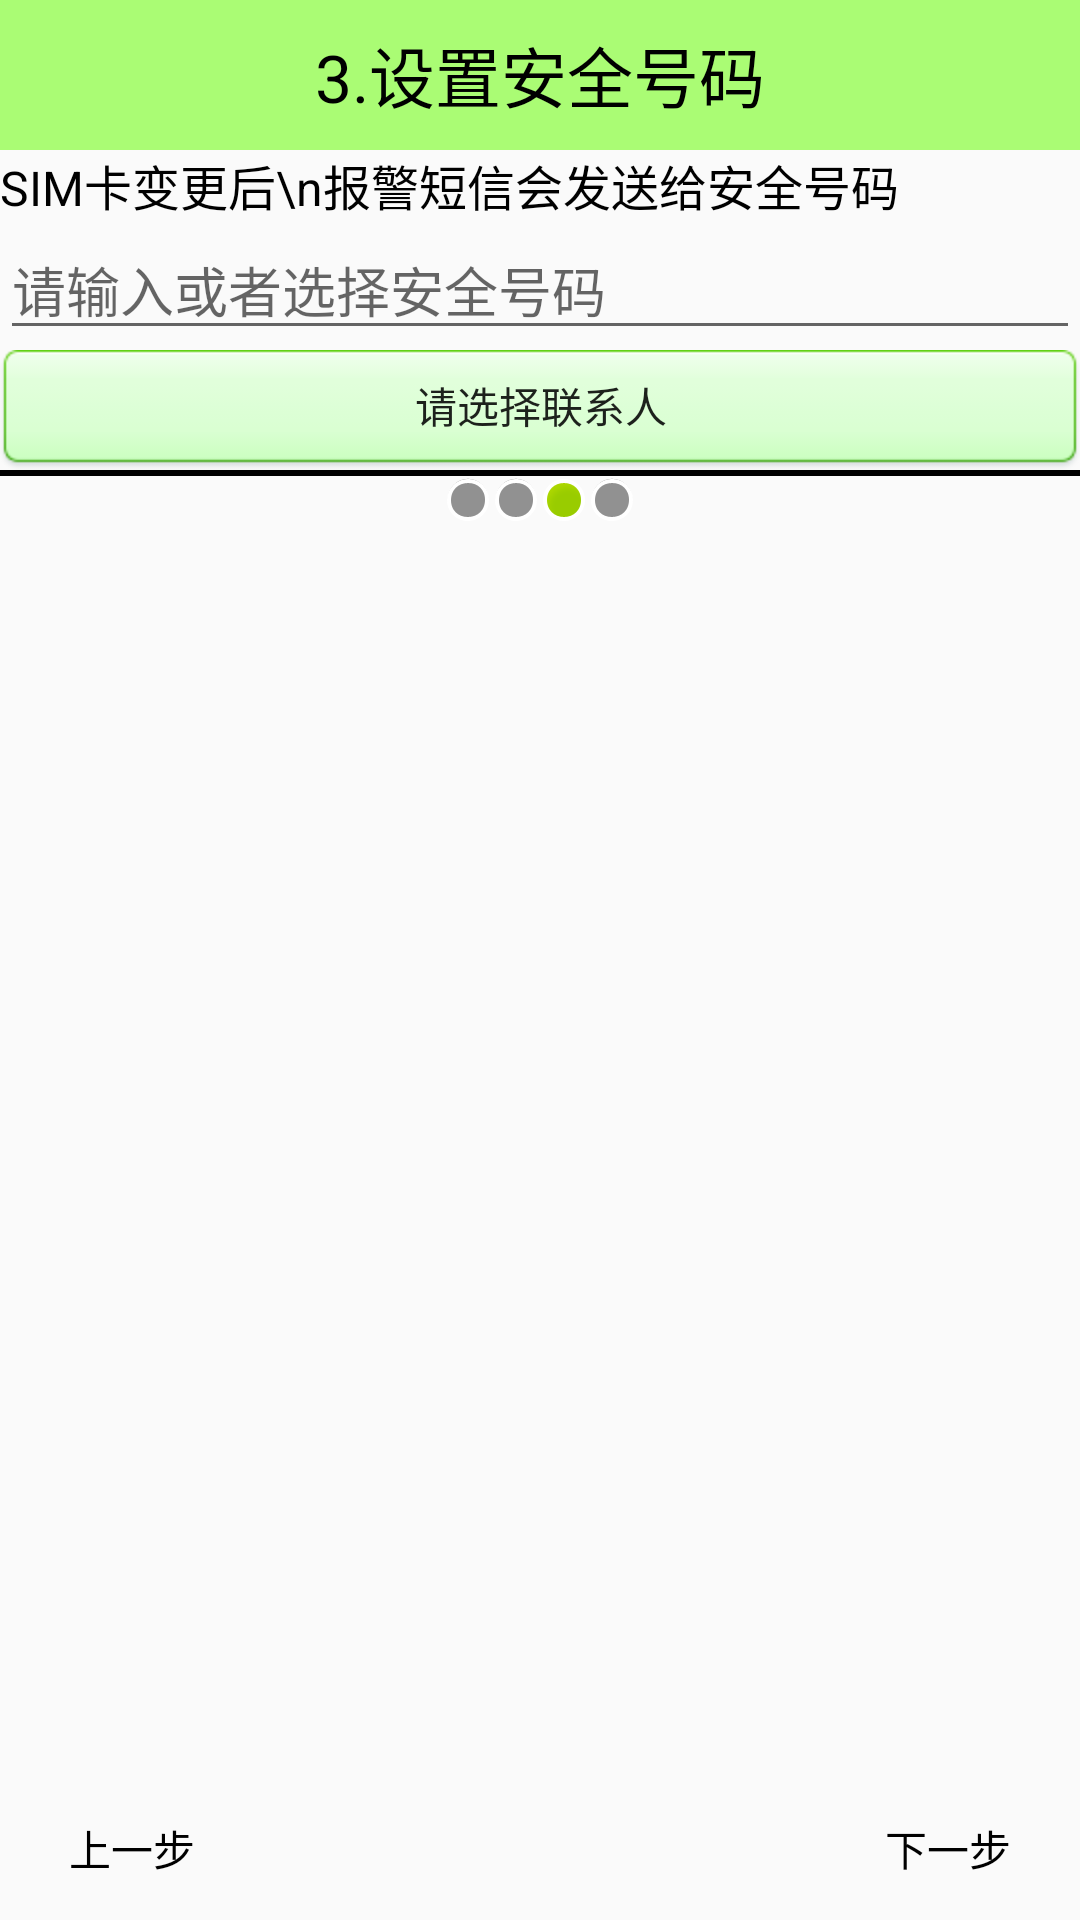

Named icons in this screenshot (1080px×1920px) and their bounding boxes, BBox(x1, y1, x2, y2):
presence invisible: BBox(451, 479, 485, 517), BBox(499, 479, 533, 517), BBox(595, 479, 629, 517)
presence online: BBox(547, 483, 581, 517)
